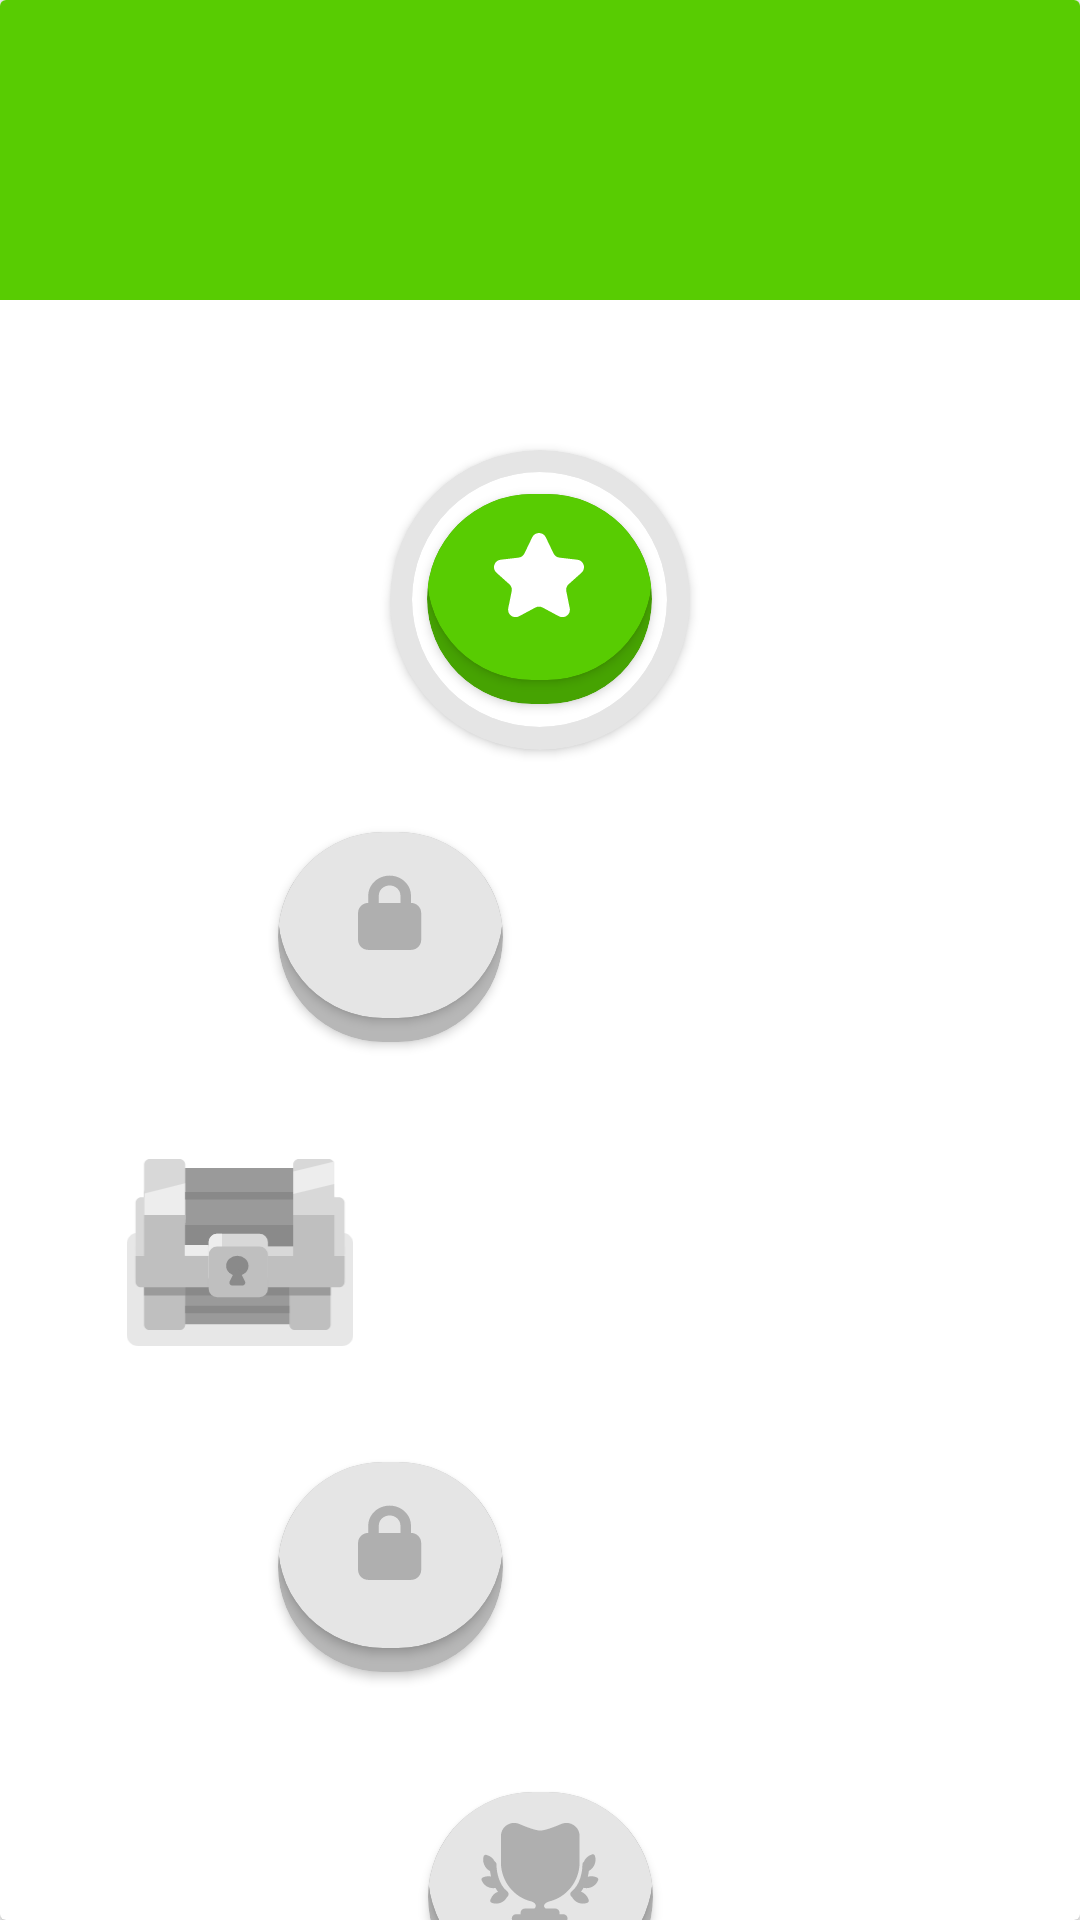

Screen size 1080x1920. Icon name, then its box in pixels as {"x1": x1, "y1": y1, "x2": x2, "y2": y2}:
A star: {"x1": 494, "y1": 533, "x2": 584, "y2": 617}
chest lock: {"x1": 134, "y1": 1159, "x2": 346, "y2": 1330}
home lock: {"x1": 358, "y1": 876, "x2": 421, "y2": 950}, {"x1": 358, "y1": 1506, "x2": 421, "y2": 1580}
